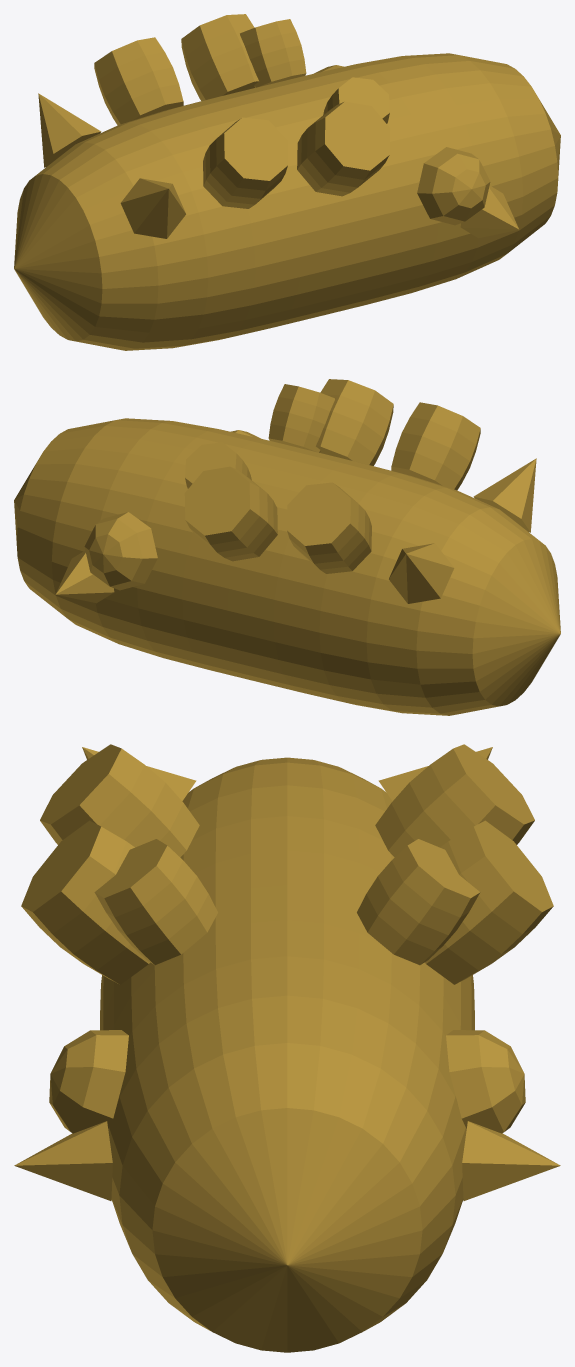
Rendered from exp1_barrel_sym_03.glb.
3 renders of one model, top to bottom at view 1: azimuth 30°, elevation 25°; view 2: azimuth 150°, elevation 25°; view 3: azimuth 270°, elevation 25°, orthographic. The views are drawn at different scales.
Visible parts, largest first — view 1: exp1_barrel_sym_03; view 2: exp1_barrel_sym_03; view 3: exp1_barrel_sym_03.
Boxes of the visible parts, bbox=[...] form: exp1_barrel_sym_03: bbox=[14, 14, 560, 350]; exp1_barrel_sym_03: bbox=[14, 379, 560, 715]; exp1_barrel_sym_03: bbox=[14, 744, 560, 1352].
Size of the model in its own units: 3.45 by 1.53 by 1.89.
